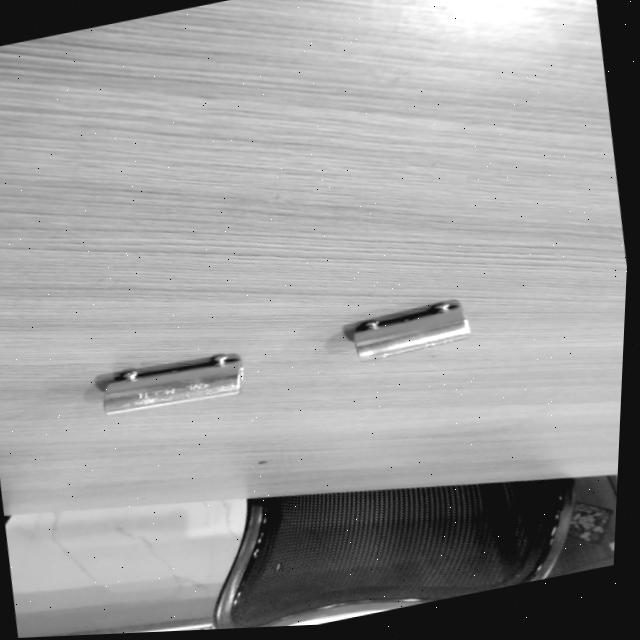Co_Lon: (99, 352, 248, 416)
Co_Nho: (349, 298, 472, 365)
